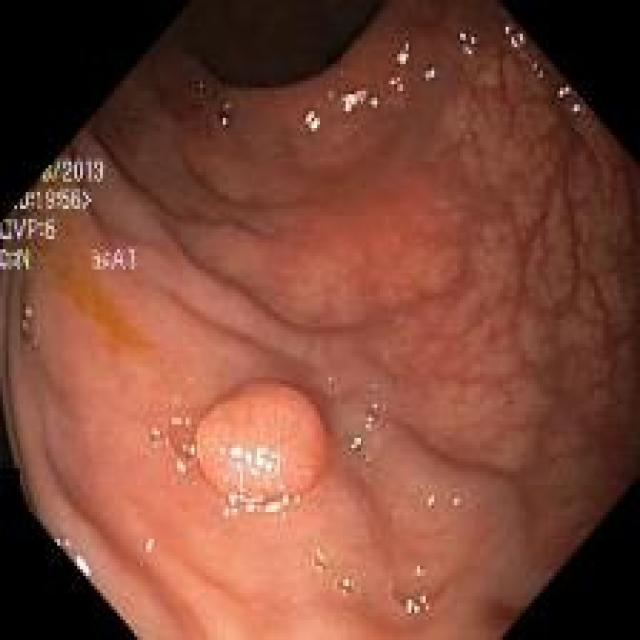Polyps: (196, 385, 325, 519)
